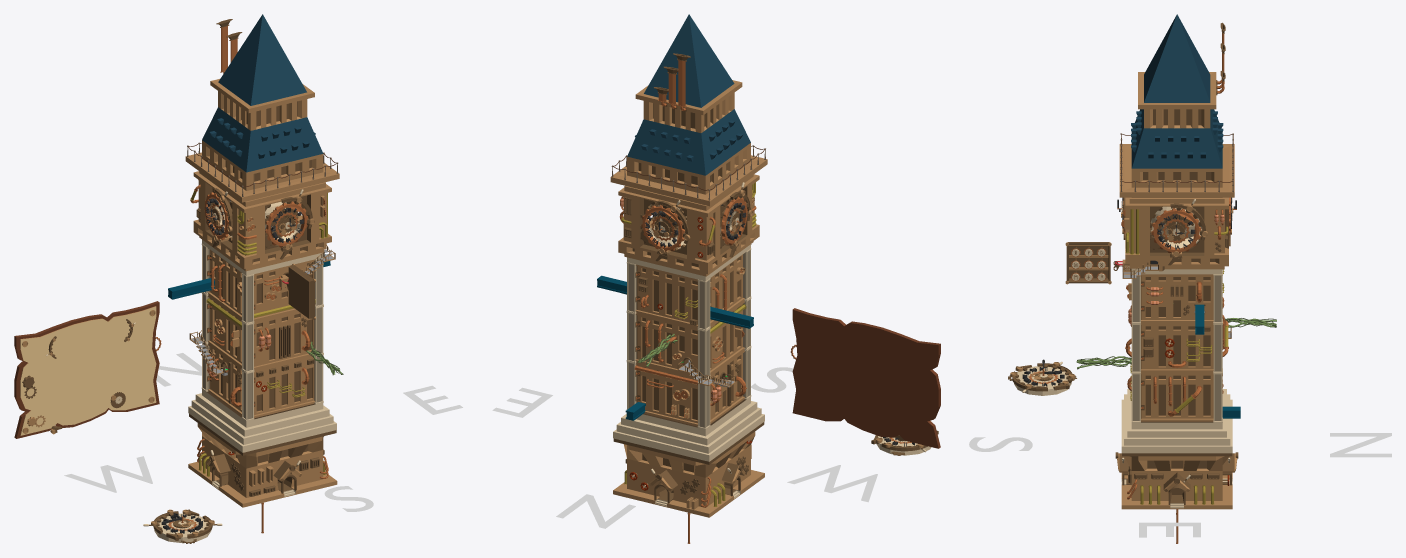
Rendered from v8_finalversion.fbx.
3 renders of one model, left to right at view 1: azimuth 30°, elevation 25°; view 2: azimuth 150°, elevation 25°; view 3: azimuth 270°, elevation 25°, orthographic. The views are drawn at different scales.
Visible parts, largest first — view 1: Roof.001, Cube.079, Base, OutSideArea, MainPillar, Wall, Wall.004, Cube.018, Wall.008, Wall.011, Wall.007, Cube.080 (+7 smaller); view 2: Cube.018, Roof.001, Base, OutSideArea, MainPillar, Wall.009, Wall.001, Wall.005, Wall.011, Wall.003, Wall.007, TextW.001 (+5 smaller); view 3: Roof.001, Base, OutSideArea, Wall.006, Wall.010, Wall.012, MainPillar, Cube.080, SmallWindows, TextN, InnerRing.005, Cylinder.151 (+1 smaller).
Boxes of the visible parts, left/top/right/bottom form: Roof.001: left=185, top=14, right=339, bottom=202; Cube.079: left=20, top=306, right=156, bottom=435; Base: left=188, top=389, right=337, bottom=507; OutSideArea: left=193, top=171, right=331, bottom=275; MainPillar: left=201, top=244, right=323, bottom=421; Wall: left=254, top=356, right=315, bottom=418; Wall.004: left=254, top=311, right=314, bottom=369; Cube.018: left=14, top=301, right=159, bottom=438; Wall.008: left=254, top=259, right=315, bottom=321; Wall.011: left=208, top=248, right=241, bottom=318; Wall.007: left=208, top=295, right=241, bottom=367; Cube.080: left=288, top=264, right=314, bottom=318; Cube.018: left=792, top=308, right=940, bottom=448; Roof.001: left=610, top=14, right=767, bottom=206; Base: left=613, top=397, right=764, bottom=517; OutSideArea: left=618, top=174, right=759, bottom=281; MainPillar: left=626, top=248, right=751, bottom=429; Wall.009: left=635, top=264, right=697, bottom=327; Wall.001: left=636, top=362, right=697, bottom=426; Wall.005: left=635, top=313, right=697, bottom=376; Wall.011: left=710, top=253, right=744, bottom=325; Wall.003: left=710, top=350, right=744, bottom=423; Wall.007: left=710, top=301, right=744, bottom=374; TextW.001: left=787, top=465, right=877, bottom=502; Roof.001: left=1119, top=14, right=1234, bottom=197; Base: left=1117, top=389, right=1237, bottom=509; OutSideArea: left=1124, top=197, right=1228, bottom=274; Wall.006: left=1141, top=372, right=1213, bottom=421; Wall.010: left=1141, top=323, right=1213, bottom=372; Wall.012: left=1141, top=274, right=1213, bottom=322; MainPillar: left=1131, top=271, right=1222, bottom=422; Cube.080: left=1066, top=242, right=1110, bottom=283; SmallWindows: left=1131, top=111, right=1223, bottom=158; TextN: left=1330, top=433, right=1391, bottom=457; InnerRing.005: left=1151, top=208, right=1201, bottom=253; Cylinder.151: left=1014, top=366, right=1071, bottom=395.
Size of the model in its own units: 556 by 643 by 465.
